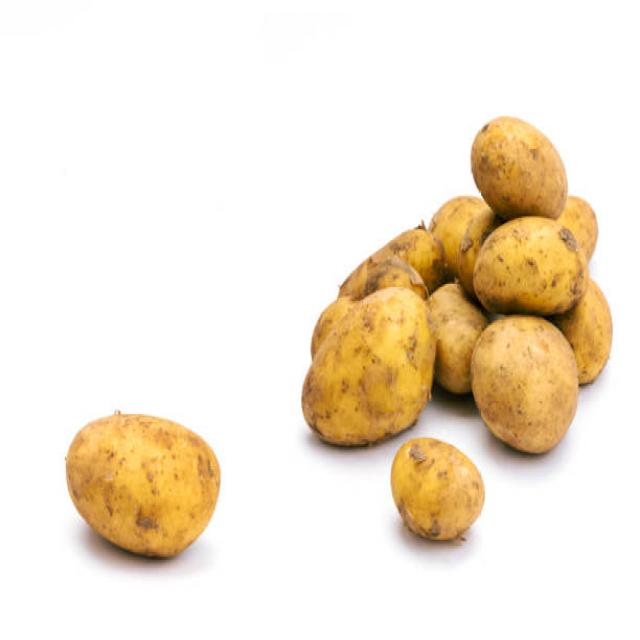Potato: (61, 409, 225, 561), (298, 290, 431, 440), (470, 314, 582, 456), (476, 214, 589, 318), (389, 438, 484, 552), (468, 114, 570, 216)
